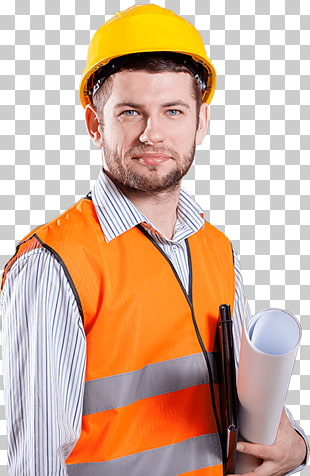casco: (79, 3, 217, 110)
